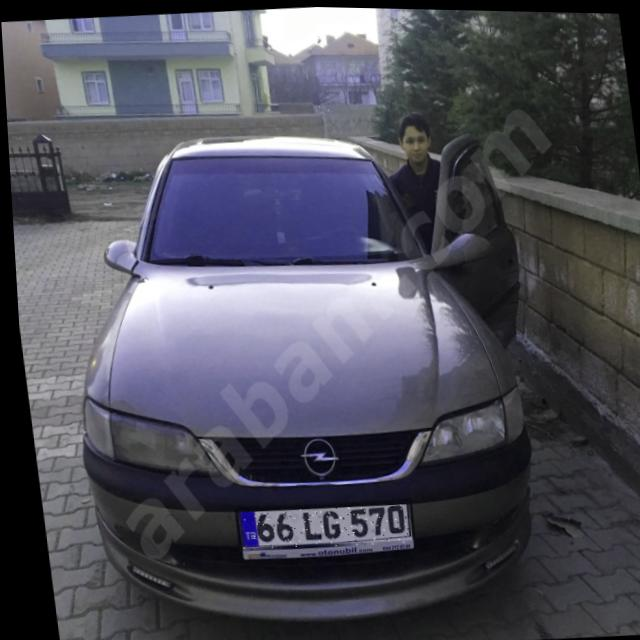license_plate: (231, 500, 406, 553)
